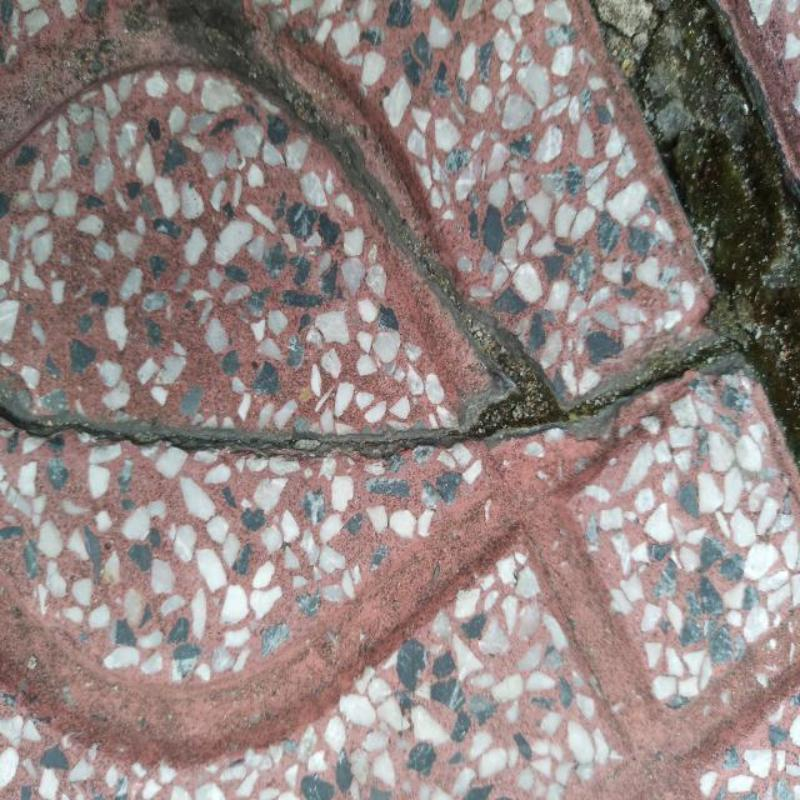pothole: (0, 339, 740, 458)
